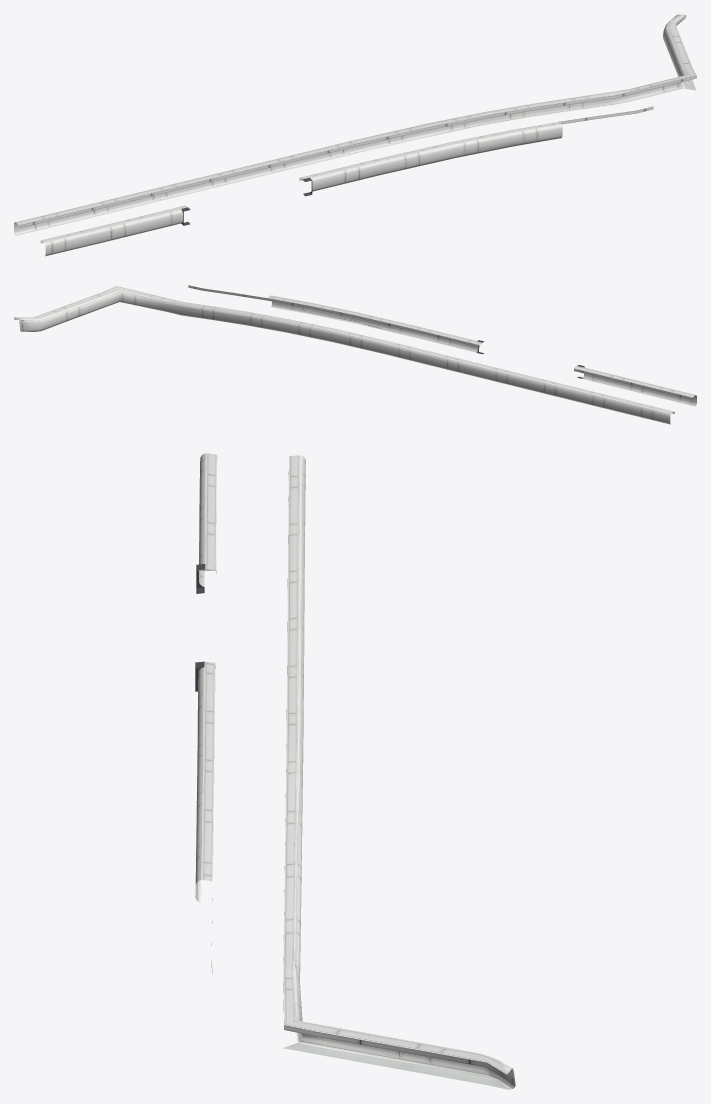
File: STA20_BridgeCurveC01.FBX
3 views of the same model, one above another, from view 1: azimuth 30°, elevation 25°; view 2: azimuth 150°, elevation 25°; view 3: azimuth 270°, elevation 25° (orthographic). The views are drawn at different scales.
Parts seen in each view (by area): view 1: STA20_BridgeCurveC01; view 2: STA20_BridgeCurveC01; view 3: STA20_BridgeCurveC01.
Boxes of the visible parts, left/top/right/bottom form: STA20_BridgeCurveC01: left=14, top=14, right=696, bottom=256; STA20_BridgeCurveC01: left=14, top=285, right=696, bottom=424; STA20_BridgeCurveC01: left=195, top=453, right=515, bottom=1089.
Size of the model in its own units: 62.38 by 2.66 by 14.27.
